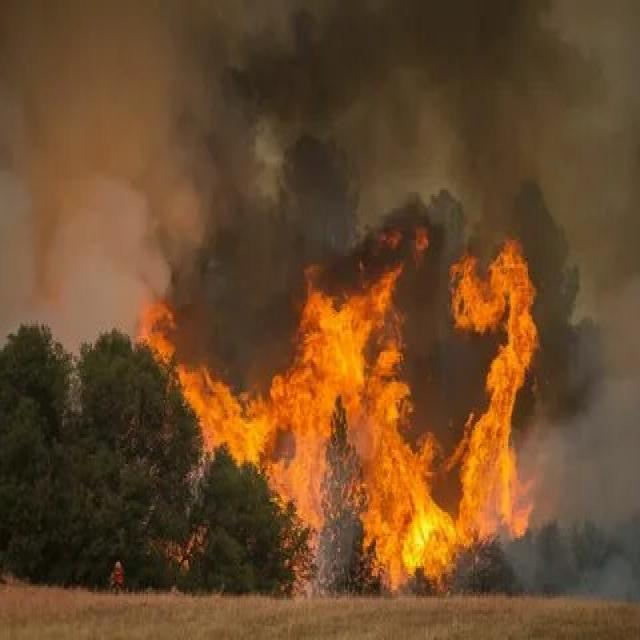Fire: (16, 254, 626, 606)
Smoke: (153, 0, 640, 258), (2, 0, 262, 288)
